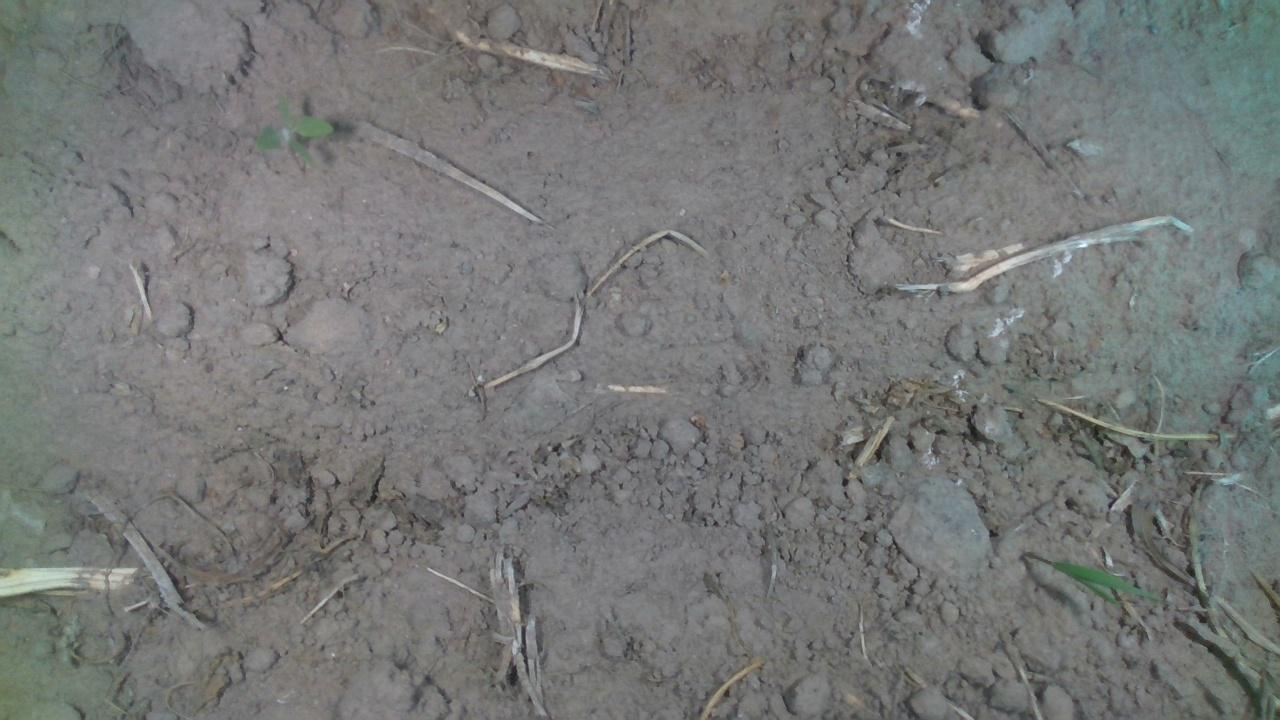weed: (253, 88, 335, 171)
